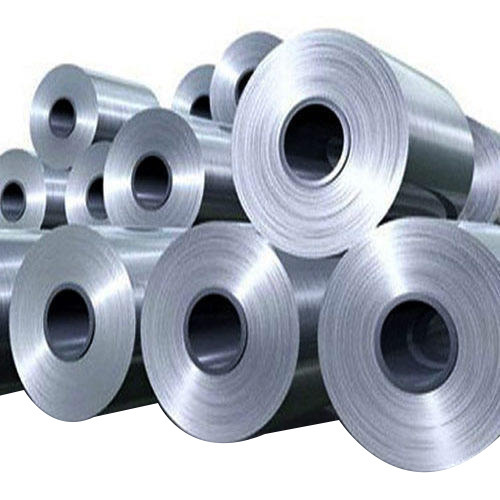steel-coil: (6, 31, 497, 429)
